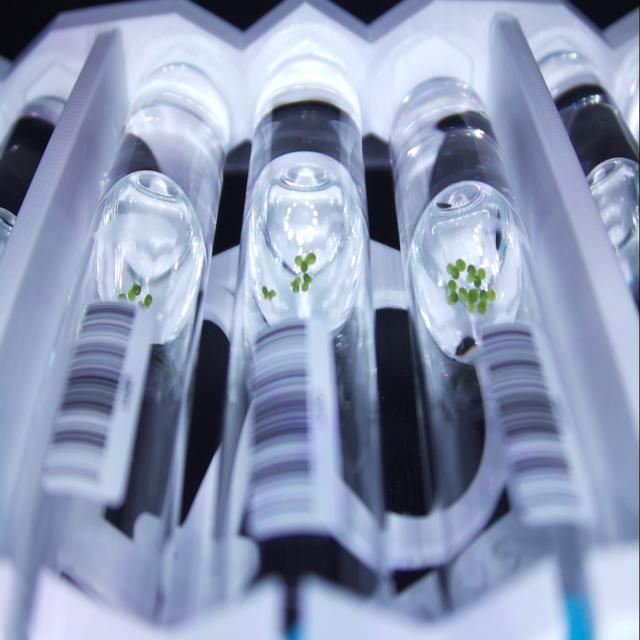Lemna-Gibba: (290, 252, 316, 292), (468, 289, 496, 314), (466, 265, 486, 287), (446, 259, 465, 279), (446, 280, 459, 305), (126, 282, 141, 300), (261, 285, 276, 300), (142, 294, 152, 309), (459, 287, 469, 301), (118, 292, 126, 302)
